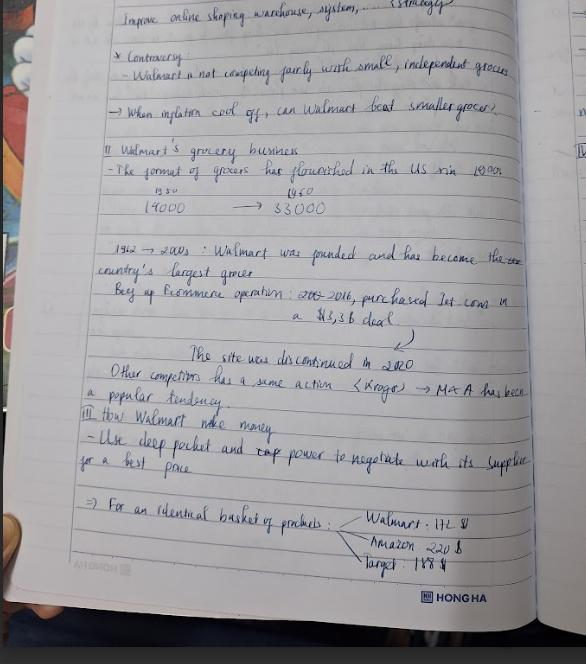text: (85, 424, 532, 483), (110, 360, 528, 407), (112, 278, 512, 313), (110, 239, 523, 270), (107, 93, 499, 125), (103, 156, 505, 187), (83, 491, 333, 539), (129, 57, 512, 87), (119, 0, 462, 31), (80, 400, 274, 447), (187, 341, 416, 376), (101, 134, 301, 167), (85, 384, 228, 419), (96, 259, 258, 288), (79, 446, 193, 481), (288, 304, 402, 332), (362, 507, 472, 536), (368, 533, 464, 559), (365, 553, 450, 582), (112, 47, 185, 68), (273, 199, 328, 219), (434, 590, 489, 608), (141, 198, 188, 219), (285, 184, 314, 201), (151, 184, 183, 197)
